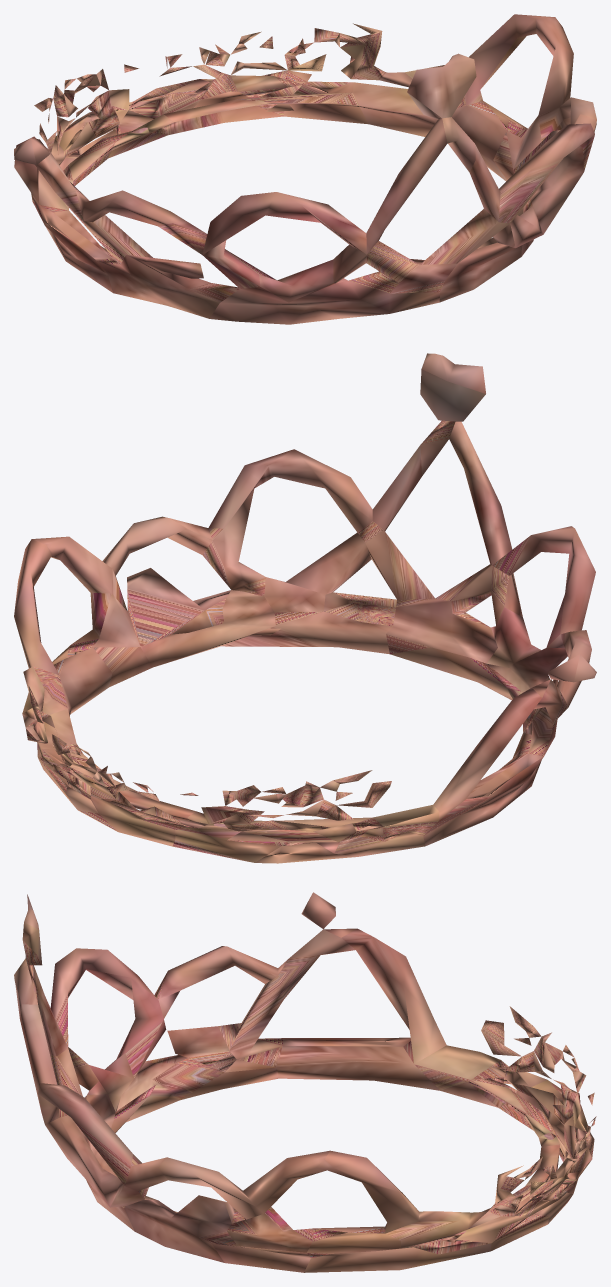
3 renders of one model, top to bottom at view 1: azimuth 30°, elevation 25°; view 2: azimuth 150°, elevation 25°; view 3: azimuth 270°, elevation 25°, orthographic. The views are drawn at different scales.
Visible parts, largest first — view 1: Pink-Tiara-25; view 2: Pink-Tiara-25; view 3: Pink-Tiara-25.
Boxes of the visible parts, x1,y1,x2,y2 form: Pink-Tiara-25: (14, 14, 596, 324); Pink-Tiara-25: (14, 353, 596, 863); Pink-Tiara-25: (14, 892, 596, 1272).
Bounding box in the file's own units: 0.2659 × 0.1294 × 0.2486.
1 material, 1 textured.
